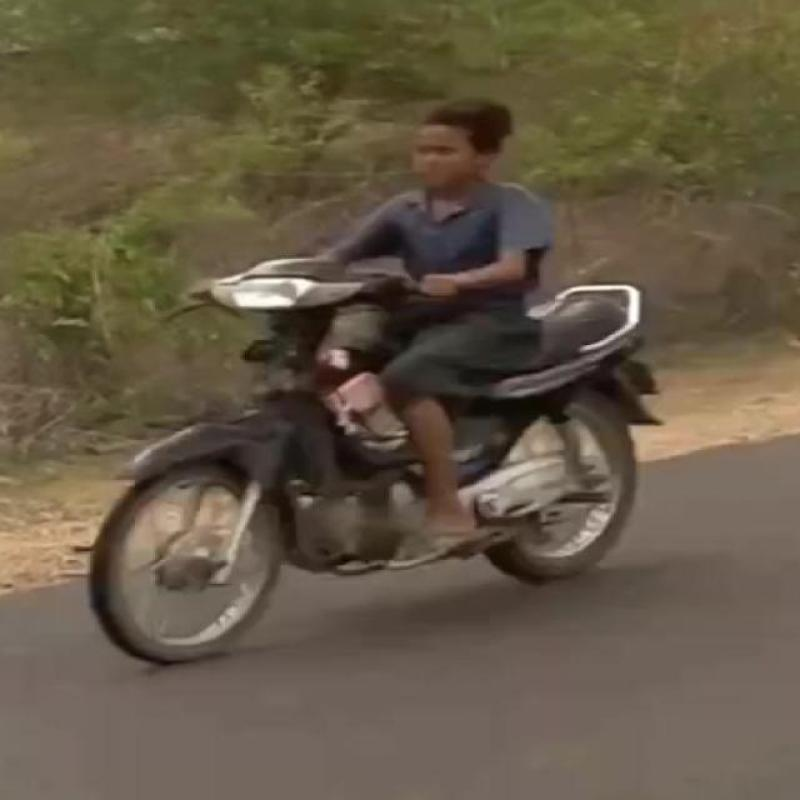nohelmet: (363, 84, 553, 198)
